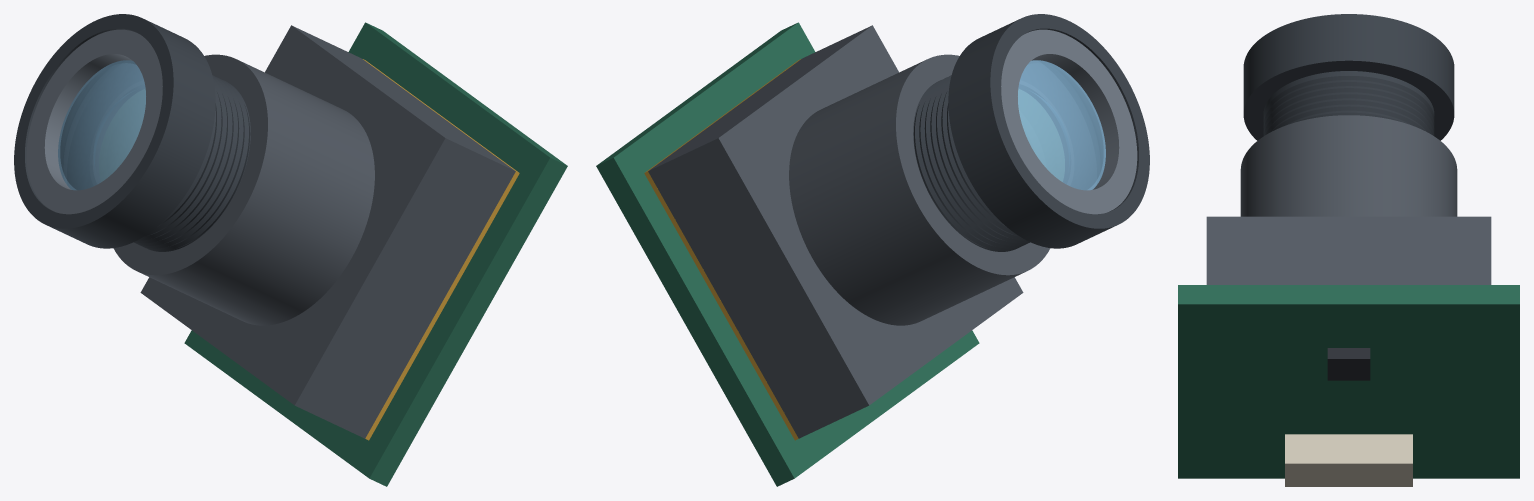
File: automotive-camera-lens.glb
The picture shows the model from 3 angles, left to right: view 1: azimuth 30°, elevation 25°; view 2: azimuth 150°, elevation 25°; view 3: azimuth 270°, elevation 25°; orthographic projection. The views are drawn at different scales.
Visible parts, largest first — view 1: holder-neck, lens-barrel, holder-plate, pcb-board, holder-skirt, retaining-ring, lens-1, aa-adhesive-bead, o-ring, spacer-1; view 2: holder-neck, lens-barrel, holder-plate, pcb-board, holder-skirt, retaining-ring, lens-1, aa-adhesive-bead, o-ring, spacer-1; view 3: pcb-board, lens-barrel, holder-neck, holder-skirt, pcb-connector, holder-plate, pcb-regulator.
Part boxes in pixels (x1=…): holder-neck: x1=113, y1=54, x2=374, y2=325; lens-barrel: x1=14, y1=14, x2=250, y2=251; holder-plate: x1=140, y1=25, x2=457, y2=410; pcb-board: x1=184, y1=22, x2=567, y2=486; holder-skirt: x1=304, y1=31, x2=515, y2=438; retaining-ring: x1=26, y1=29, x2=162, y2=214; lens-1: x1=58, y1=60, x2=145, y2=190; aa-adhesive-bead: x1=363, y1=59, x2=519, y2=440; o-ring: x1=58, y1=62, x2=117, y2=178; spacer-1: x1=90, y1=81, x2=144, y2=185; holder-neck: x1=789, y1=54, x2=1050, y2=325; lens-barrel: x1=913, y1=14, x2=1149, y2=251; holder-plate: x1=706, y1=25, x2=1023, y2=410; pcb-board: x1=596, y1=22, x2=979, y2=486; holder-skirt: x1=648, y1=31, x2=859, y2=438; retaining-ring: x1=1001, y1=29, x2=1137, y2=214; lens-1: x1=1018, y1=60, x2=1105, y2=190; aa-adhesive-bead: x1=644, y1=59, x2=800, y2=440; o-ring: x1=1046, y1=62, x2=1105, y2=178; spacer-1: x1=1019, y1=81, x2=1073, y2=185; pcb-board: x1=1178, y1=285, x2=1519, y2=478; lens-barrel: x1=1243, y1=14, x2=1454, y2=140; holder-neck: x1=1240, y1=115, x2=1457, y2=216; holder-skirt: x1=1206, y1=230, x2=1491, y2=284; pcb-connector: x1=1285, y1=434, x2=1412, y2=486; holder-plate: x1=1206, y1=216, x2=1491, y2=230; pcb-regulator: x1=1327, y1=348, x2=1370, y2=380.
Size of the model in its own units: 0.0328 by 0.0309 by 0.024.
